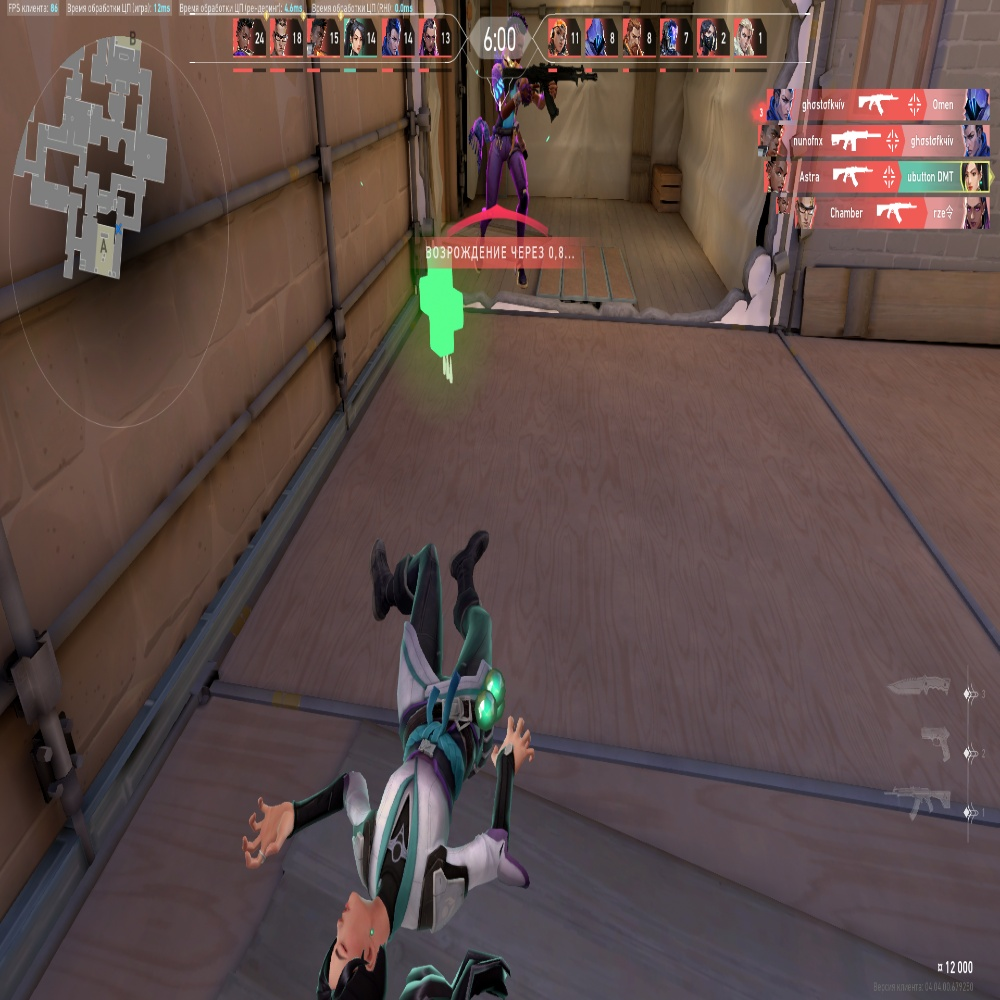body: (494, 68, 522, 138)
